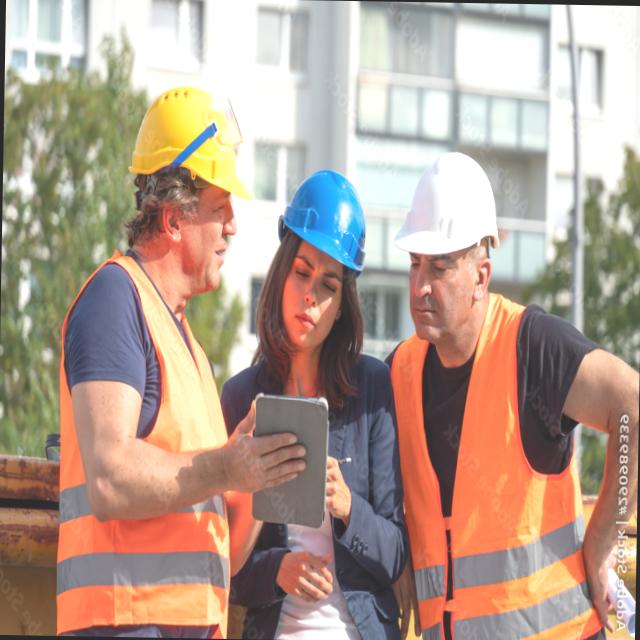helmet: (123, 91, 253, 192), (394, 150, 505, 255), (276, 166, 376, 254)
no-goggles: (164, 189, 246, 223), (286, 258, 352, 298), (404, 248, 464, 288)
no-vest: (228, 342, 382, 639)
vest: (404, 309, 570, 640), (61, 307, 224, 638)
